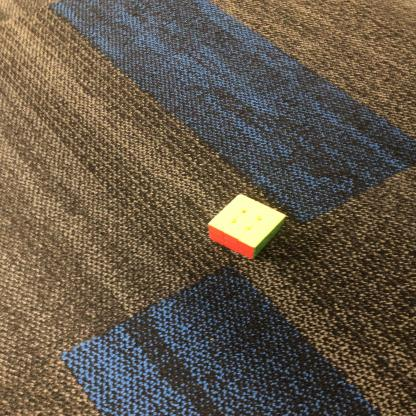SolvedCube: (208, 190, 288, 260)
